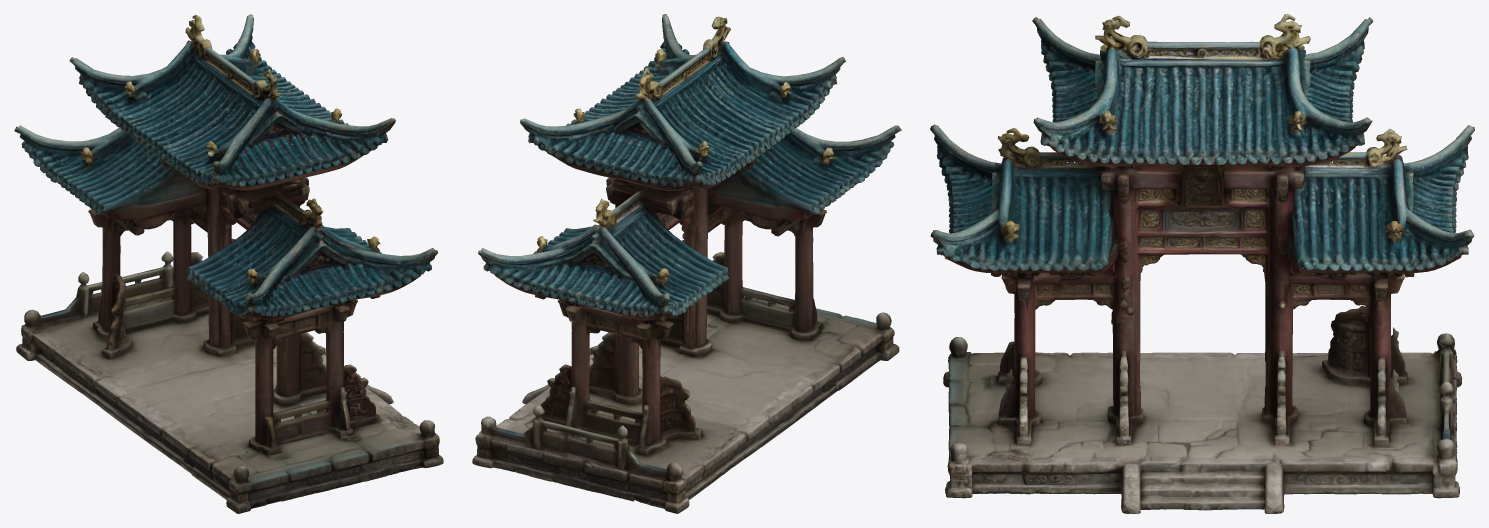
Rendered from gate.glb.
3 renders of one model, left to right at view 1: azimuth 30°, elevation 25°; view 2: azimuth 150°, elevation 25°; view 3: azimuth 270°, elevation 25°, orthographic. The views are drawn at different scales.
Visible parts, largest first — view 1: tripo_node_bbb339b2-d95d-4d1e-a4c6-463872fd5ee2; view 2: tripo_node_bbb339b2-d95d-4d1e-a4c6-463872fd5ee2; view 3: tripo_node_bbb339b2-d95d-4d1e-a4c6-463872fd5ee2.
Boxes of the visible parts, x1,y1,x2,y2 form: tripo_node_bbb339b2-d95d-4d1e-a4c6-463872fd5ee2: [14, 14, 443, 513]; tripo_node_bbb339b2-d95d-4d1e-a4c6-463872fd5ee2: [472, 14, 901, 513]; tripo_node_bbb339b2-d95d-4d1e-a4c6-463872fd5ee2: [930, 14, 1474, 513].
Bounding box in the file's own units: 0.5678 × 0.8482 × 0.9798.
1 material, 1 textured.
